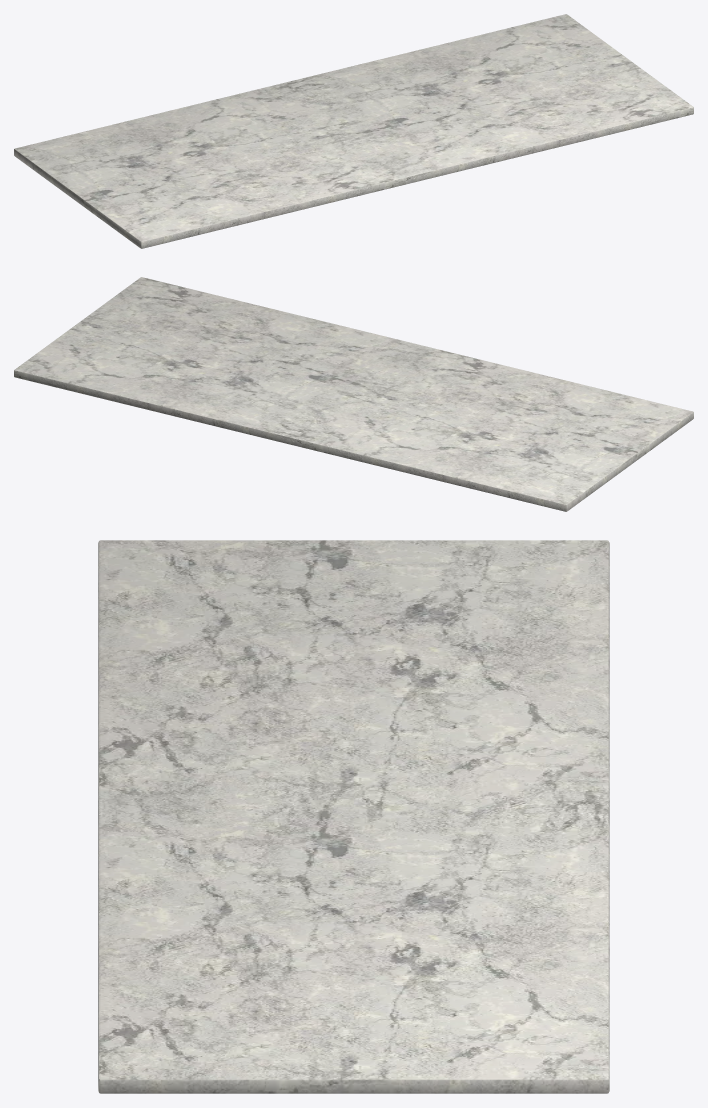
The model's file is REV-PED-002.glb.
3 renders of one model, top to bottom at view 1: azimuth 30°, elevation 25°; view 2: azimuth 150°, elevation 25°; view 3: azimuth 270°, elevation 25°, orthographic. The views are drawn at different scales.
Parts seen in each view (by area): view 1: REV-PED-002_chapa; view 2: REV-PED-002_chapa; view 3: REV-PED-002_chapa.
Boxes of the visible parts, <box> form: REV-PED-002_chapa: <box>14,14,693,248</box>; REV-PED-002_chapa: <box>14,277,693,511</box>; REV-PED-002_chapa: <box>98,540,609,1093</box>.
Bounding box in the file's own units: 1.5 × 0.02 × 0.6.
Materials: 1 (1 with a texture image).
